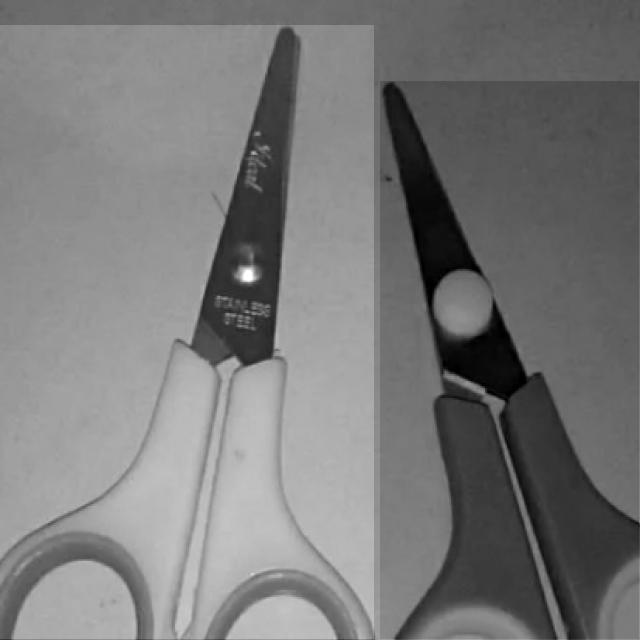tesoura: (0, 25, 374, 639), (381, 81, 639, 639)
